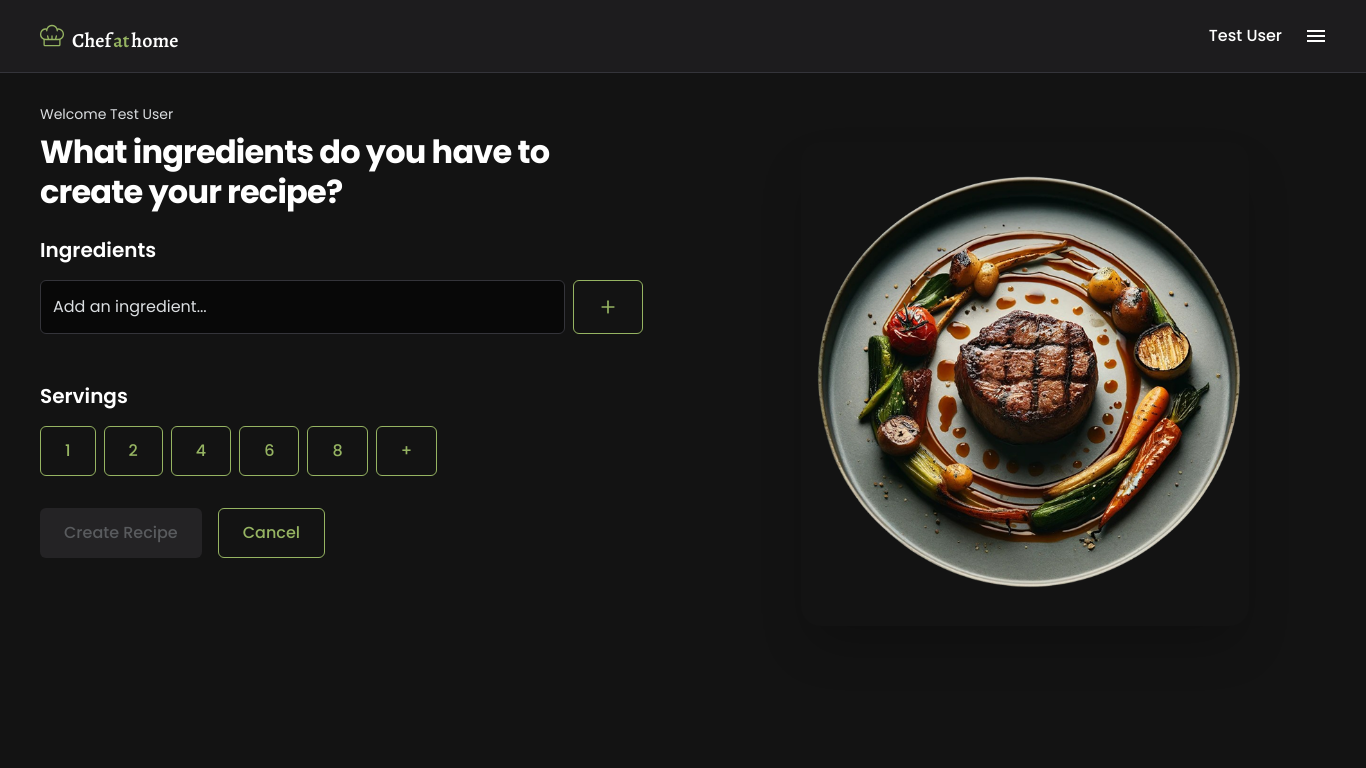
Scenario: CreateRecipePage › Servings Selection › handles custom serving input
This screenshot has width=1366, height=768.
// Open custom input
Click the button "+" at point(406, 451), box [376, 426, 437, 476]
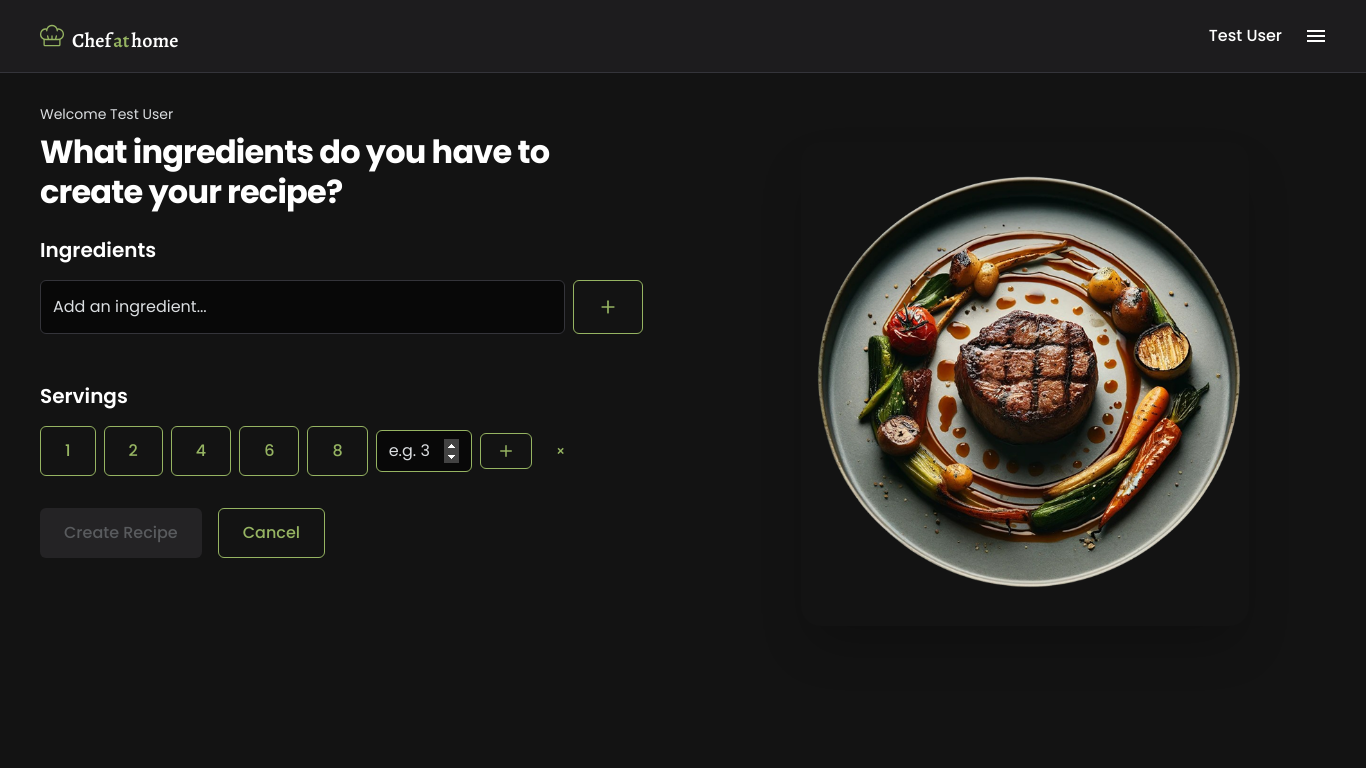
// Enter custom value and confirm
Type "10" into the number field with placeholder "e.g. 3" at point(424, 451), box [376, 430, 472, 472]
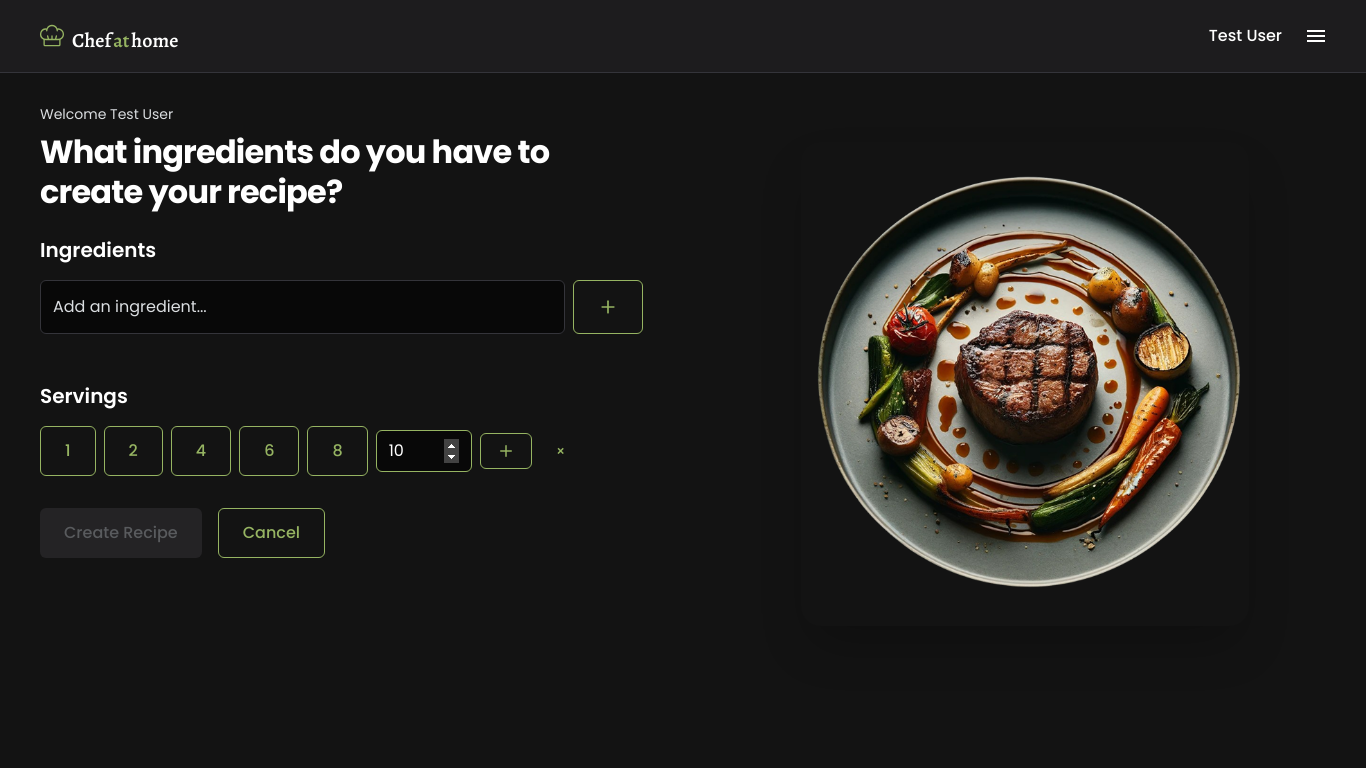
Click the button with test id "confirm-serving-button" at point(506, 451), box [480, 433, 532, 469]
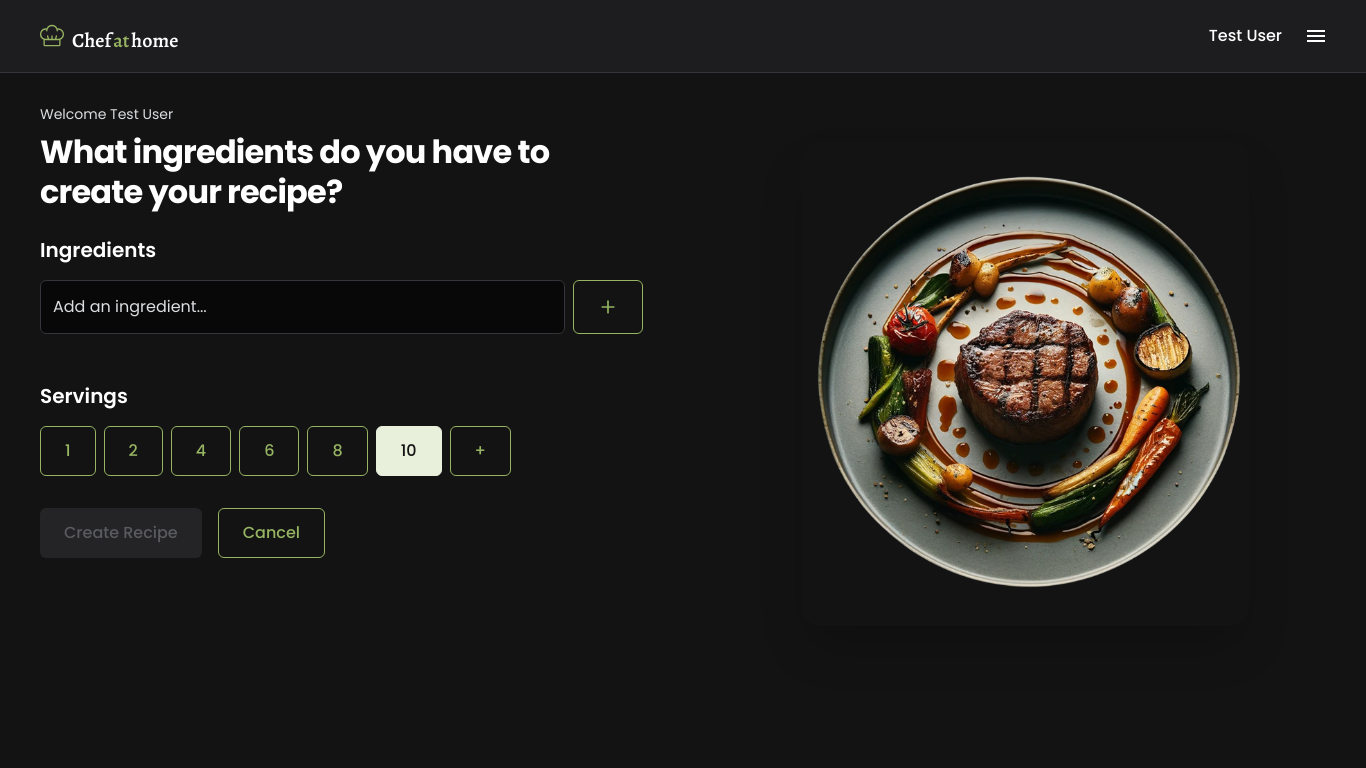
Result: the button "10" is shown at [376, 426, 442, 476]
